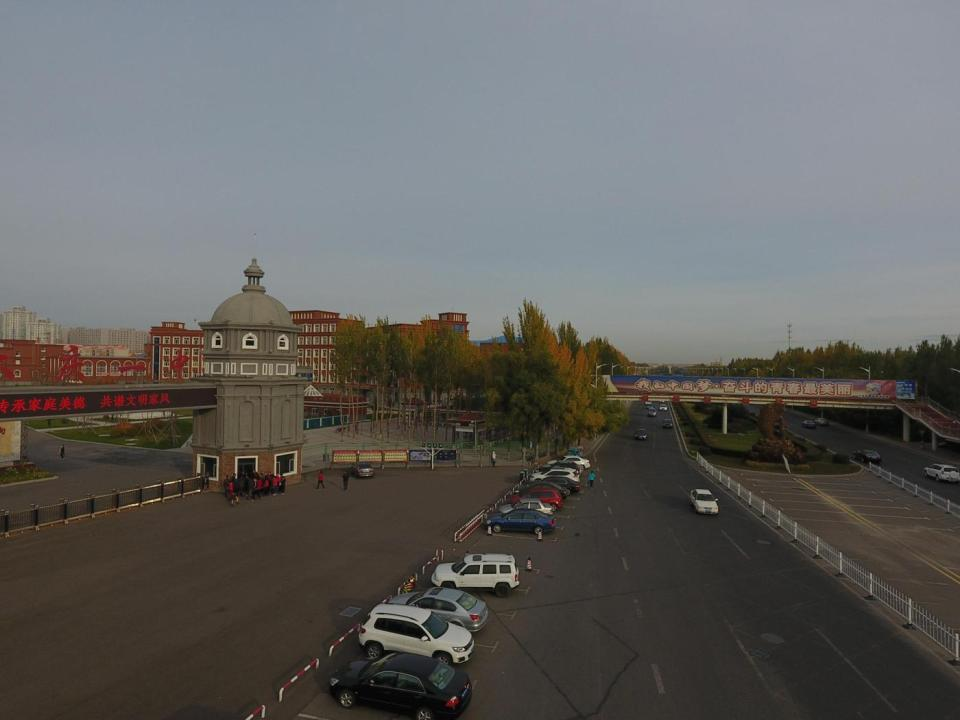car: (332, 650, 474, 719), (357, 603, 477, 665), (384, 587, 488, 630), (428, 552, 522, 597), (485, 507, 559, 537), (507, 486, 564, 511), (512, 480, 567, 501), (526, 477, 579, 495), (499, 498, 558, 513), (531, 468, 583, 485), (688, 487, 719, 514), (532, 461, 581, 478), (923, 460, 960, 482), (547, 455, 591, 472), (350, 459, 375, 480), (854, 448, 882, 463), (543, 463, 584, 473), (635, 428, 648, 441), (801, 419, 816, 428), (662, 419, 673, 430), (815, 418, 829, 426), (648, 407, 657, 418), (659, 404, 668, 412), (644, 397, 654, 404), (659, 397, 668, 404), (646, 404, 654, 409)
